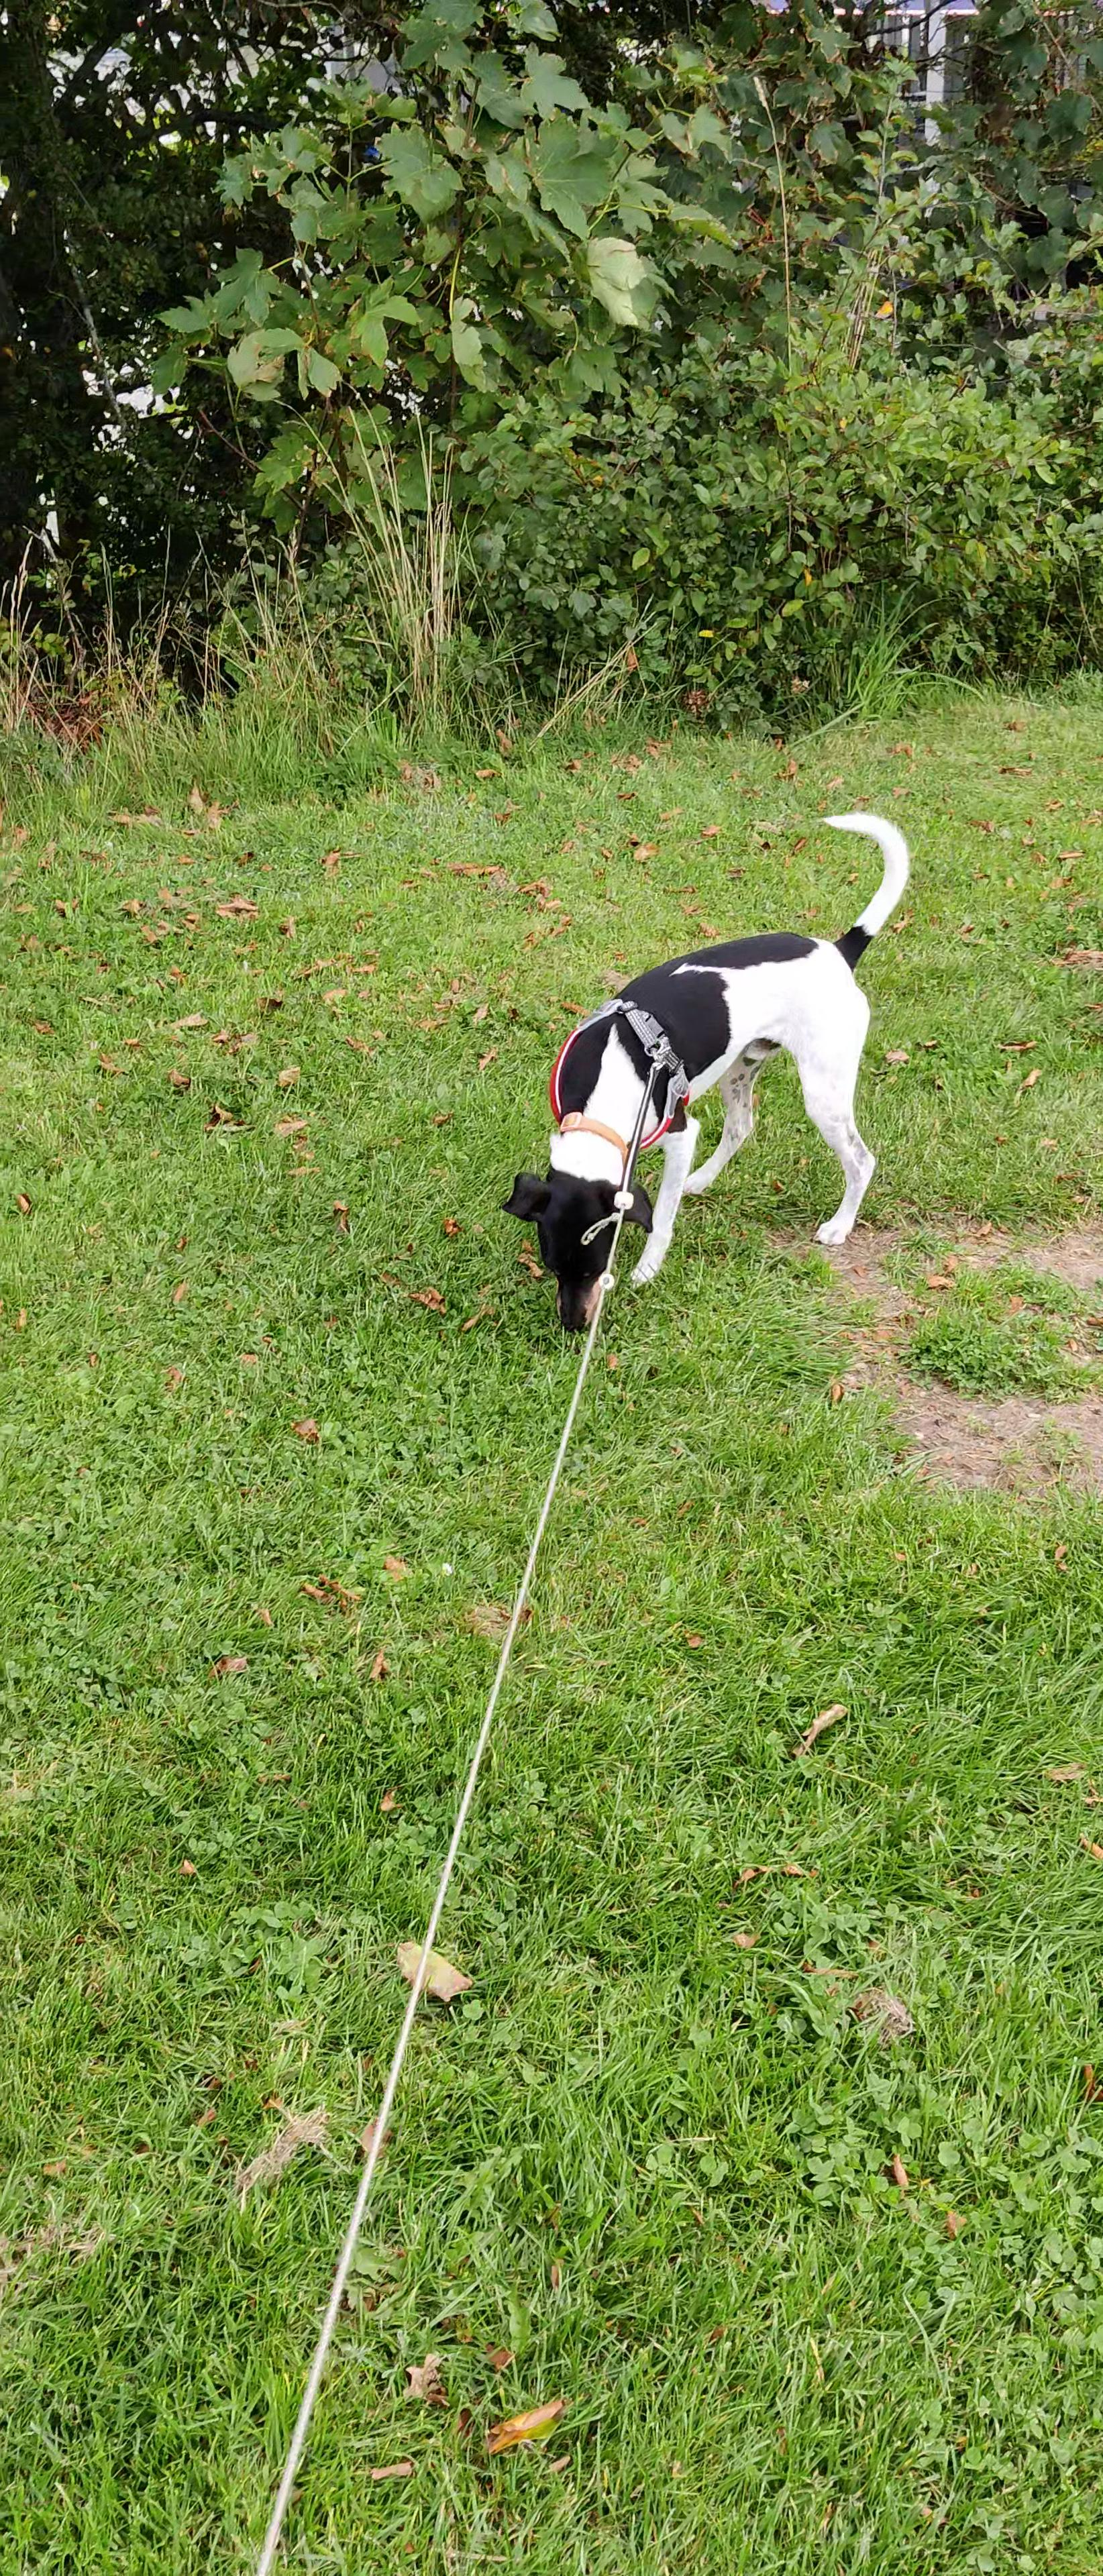Dog: (495, 800, 919, 1344)
